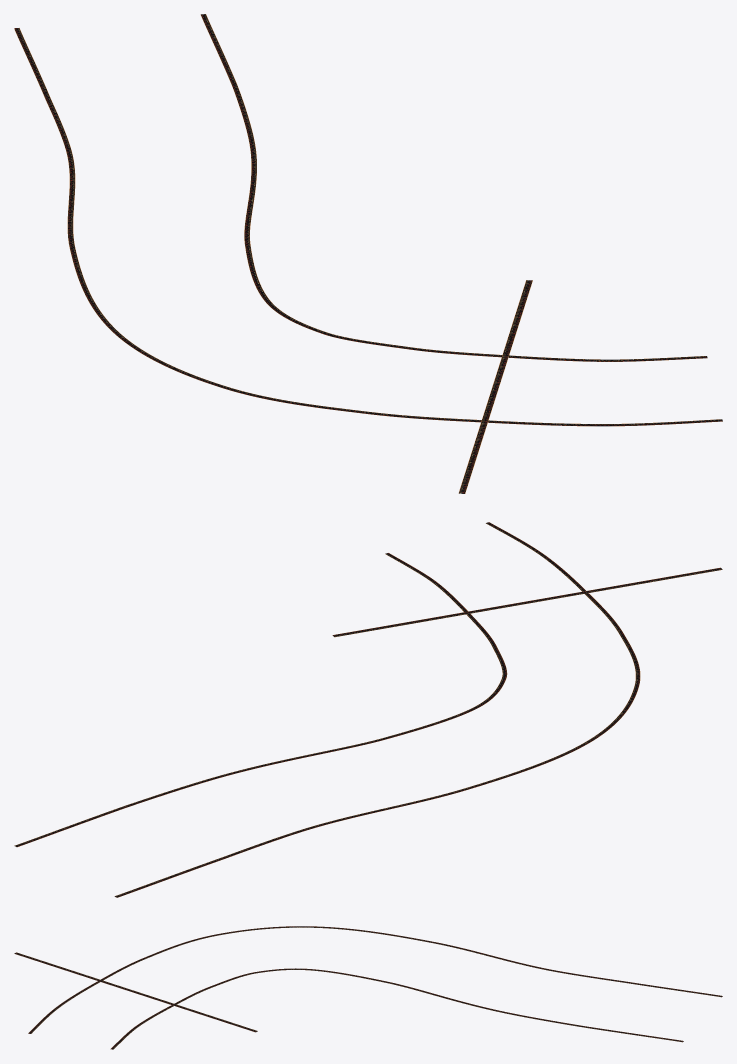
Rendered from earth_roads.glb.
3 views of the same model, one above another, from view 1: azimuth 30°, elevation 25°; view 2: azimuth 150°, elevation 25°; view 3: azimuth 270°, elevation 25° (orthographic). The views are drawn at different scales.
Parts seen in each view (by area): view 1: EarthRoads; view 2: EarthRoads; view 3: EarthRoads.
Part boxes in pixels (bbox=[...]): EarthRoads: bbox=[14, 14, 722, 493]; EarthRoads: bbox=[14, 522, 722, 897]; EarthRoads: bbox=[14, 926, 722, 1049].
Bounding box in the file's own units: 603 × 2.6 × 1463.
Materials: 1 (1 with a texture image).
